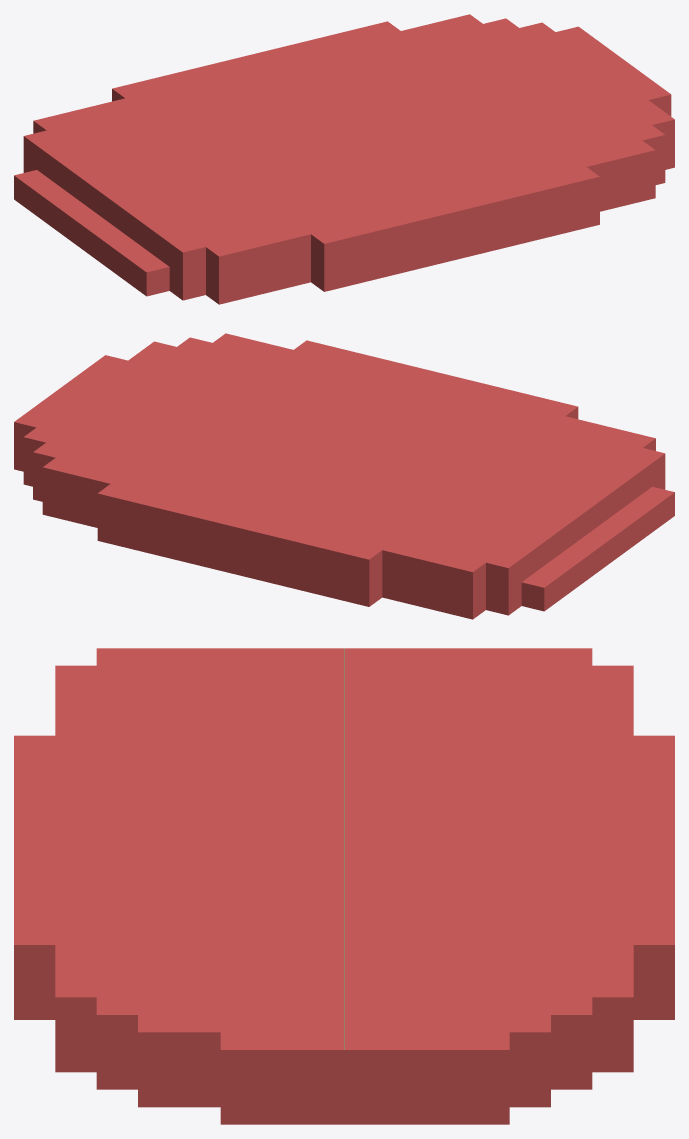
The model's file is Matambre_Flank_Steak.fbx.
The picture shows the model from 3 angles, top to bottom: view 1: azimuth 30°, elevation 25°; view 2: azimuth 150°, elevation 25°; view 3: azimuth 270°, elevation 25°; orthographic projection. The views are drawn at different scales.
Visible parts, largest first — view 1: meat2_1_13, meat_0_12, meat2_6_15, meat2_2_14, meat_1_13, meat_6_15, meat2_8_15, meat2_20_14, meat2_7_15, meat2_19_14, meat_2_14, meat2_10_15 (+51 smaller); view 2: meat2_6_0, meat_0_3, meat2_1_2, meat2_2_1, meat_6_0, meat2_17_0, meat2_3_1, meat2_9_0, meat2_12_0, meat2_20_1, meat_1_2, meat_2_1 (+51 smaller); view 3: meat2_23_4, meat2_23_7, meat2_17_0, meat2_17_15, meat2_21_2, meat2_21_13, meat2_23_5, meat2_23_6, meat2_23_8, meat2_23_9, meat2_23_10, meat2_20_1 (+335 smaller).
Part boxes in pixels (x1=…): meat2_1_13: x1=169, y1=237, x2=205, y2=276; meat_0_12: x1=133, y1=257, x2=169, y2=296; meat2_6_15: x1=311, y1=228, x2=347, y2=267; meat2_2_14: x1=206, y1=241, x2=241, y2=280; meat_1_13: x1=169, y1=267, x2=205, y2=300; meat_6_15: x1=311, y1=258, x2=347, y2=291; meat2_8_15: x1=357, y1=217, x2=393, y2=256; meat2_20_14: x1=619, y1=140, x2=655, y2=179; meat2_7_15: x1=334, y1=223, x2=370, y2=262; meat2_19_14: x1=597, y1=146, x2=632, y2=185; meat_2_14: x1=206, y1=271, x2=241, y2=304; meat2_10_15: x1=403, y1=206, x2=438, y2=245; meat2_6_0: x1=346, y1=544, x2=382, y2=583; meat_0_3: x1=521, y1=573, x2=557, y2=611; meat2_1_2: x1=486, y1=553, x2=521, y2=591; meat2_2_1: x1=450, y1=557, x2=485, y2=595; meat_6_0: x1=346, y1=574, x2=382, y2=606; meat2_17_0: x1=97, y1=484, x2=132, y2=522; meat2_3_1: x1=427, y1=551, x2=462, y2=590; meat2_9_0: x1=278, y1=528, x2=313, y2=566; meat2_12_0: x1=210, y1=511, x2=245, y2=549; meat2_20_1: x1=42, y1=458, x2=77, y2=496; meat_1_2: x1=486, y1=582, x2=521, y2=615; meat_2_1: x1=450, y1=586, x2=485, y2=619; meat2_23_4: x1=468, y1=1032, x2=509, y2=1087; meat2_23_7: x1=344, y1=1032, x2=385, y2=1087; meat2_17_0: x1=633, y1=927, x2=674, y2=982; meat2_17_15: x1=14, y1=927, x2=55, y2=982; meat2_21_2: x1=551, y1=997, x2=592, y2=1052; meat2_21_13: x1=96, y1=997, x2=137, y2=1052; meat2_23_5: x1=427, y1=1032, x2=468, y2=1087; meat2_23_6: x1=385, y1=1032, x2=426, y2=1087; meat2_23_8: x1=303, y1=1032, x2=344, y2=1087; meat2_23_9: x1=262, y1=1032, x2=303, y2=1087; meat2_23_10: x1=220, y1=1032, x2=261, y2=1087; meat2_20_1: x1=592, y1=980, x2=633, y2=1034.
Size of the model in its own units: 150 by 12.5 by 100.
1 material, 1 textured.
